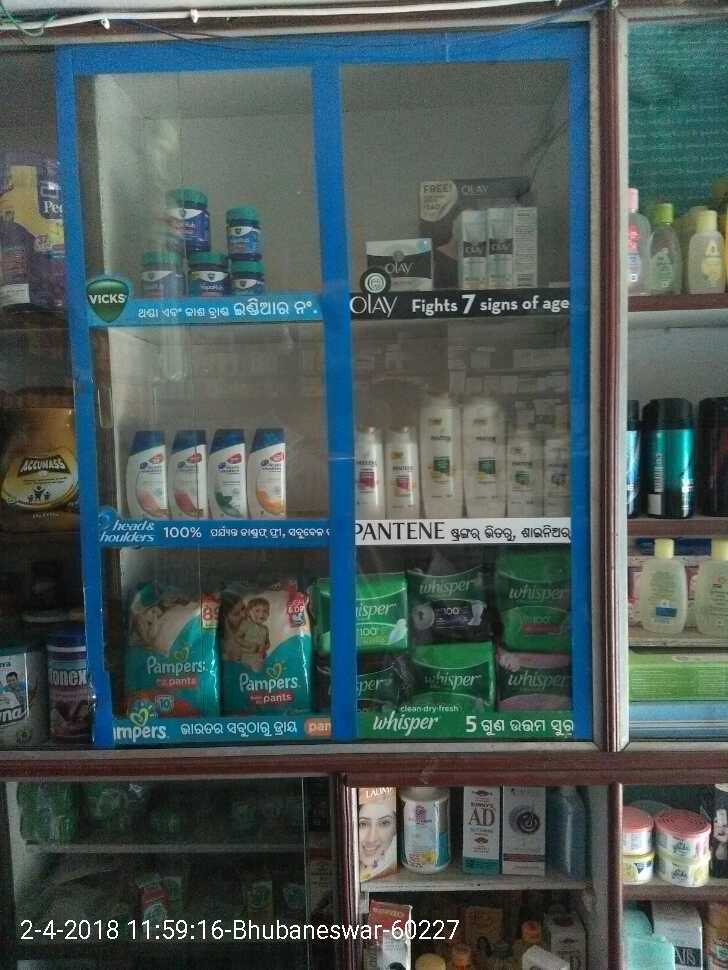vicks: (171, 187, 211, 248), (144, 253, 186, 296), (225, 205, 257, 258), (188, 255, 228, 296), (233, 261, 260, 294)
